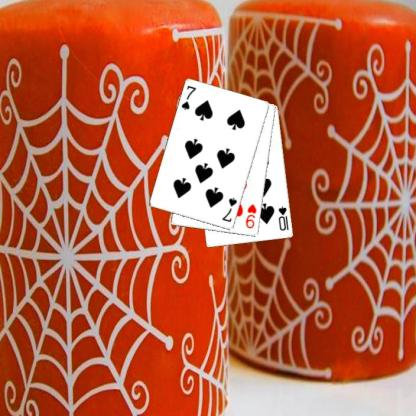10S: (276, 204, 290, 232)
7S: (179, 83, 197, 112), (220, 196, 238, 224)
9H: (244, 201, 258, 230)
